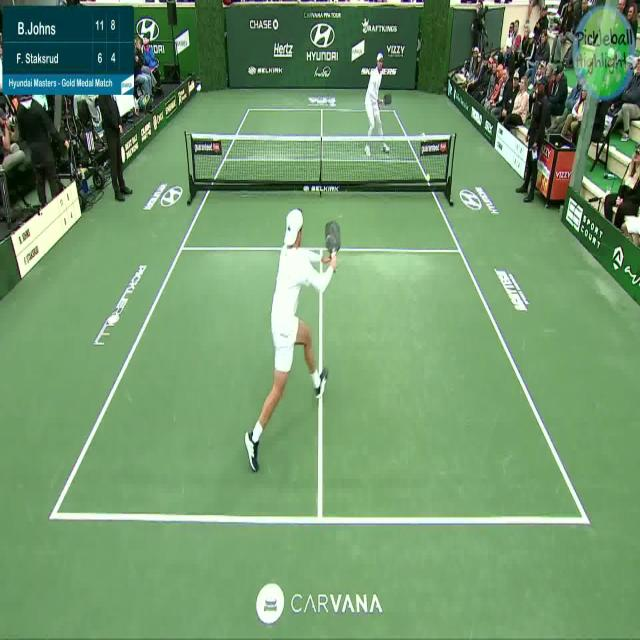ball: (426, 173, 430, 183)
